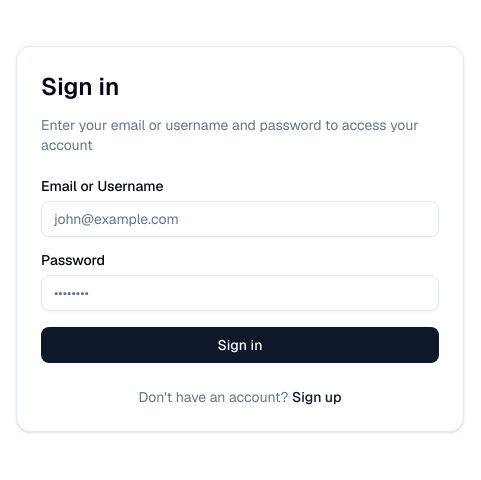
Test: LoginPage › Error Handling › should clear error message on new submission attempt
Step 1. Type "test@example.com" into the field labelled "Email or Username" → (240, 219), box 41,201 -> 439,237
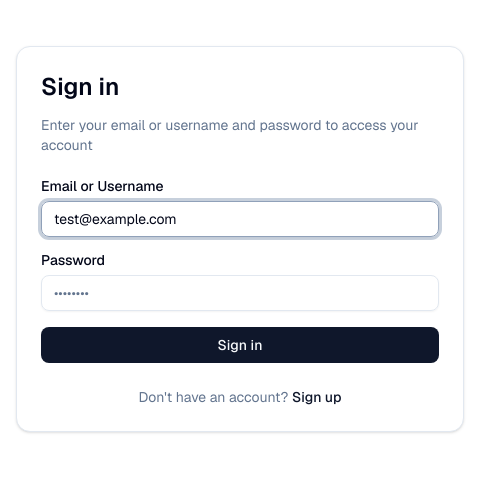
Step 2. Type "password123" into the password field labelled "Password" → (240, 293), box 41,275 -> 439,311
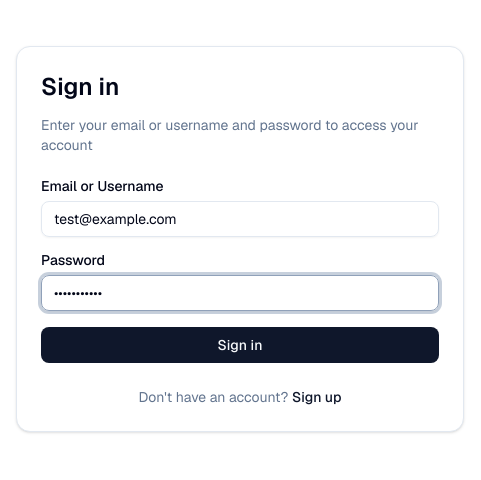
Step 3. Click the button "Sign in" → (240, 345), box 41,327 -> 439,363
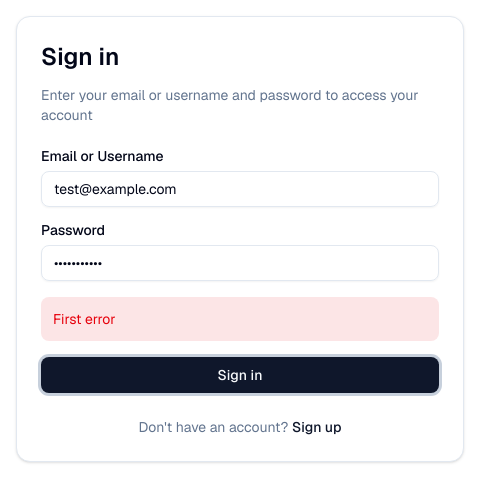
Check: the text "First error" is shown, box 41,297 -> 439,341
Step 4. Click the button "Sign in" → (240, 375), box 41,357 -> 439,393
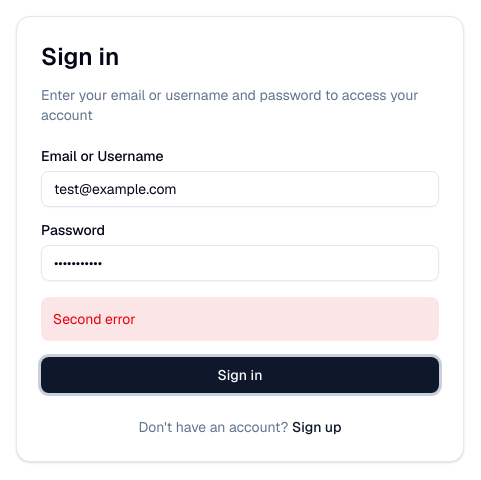
Check: the text "First error" is gone
Check: the text "Second error" is shown, box 41,297 -> 439,341
